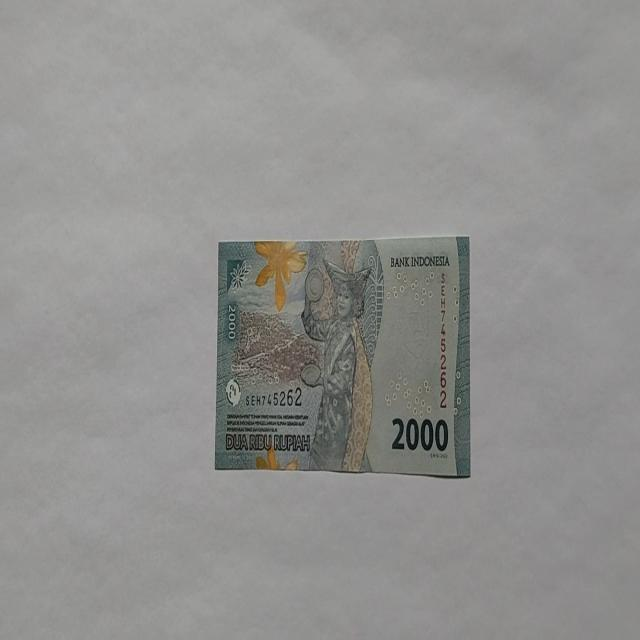dua ribu rupiah: (214, 235, 471, 478), (300, 256, 374, 472)
